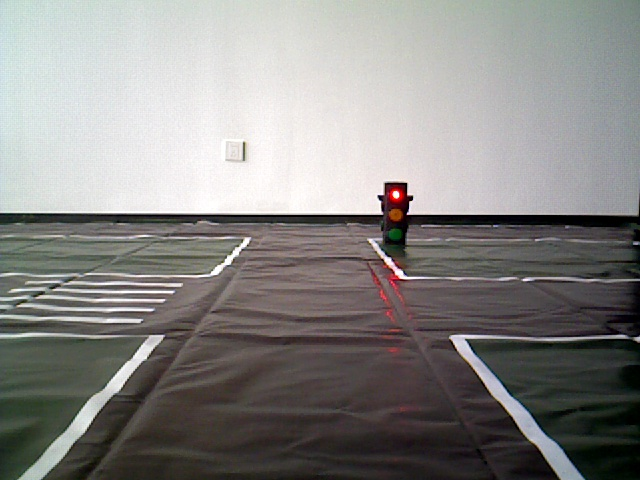red: (381, 183, 405, 247)
